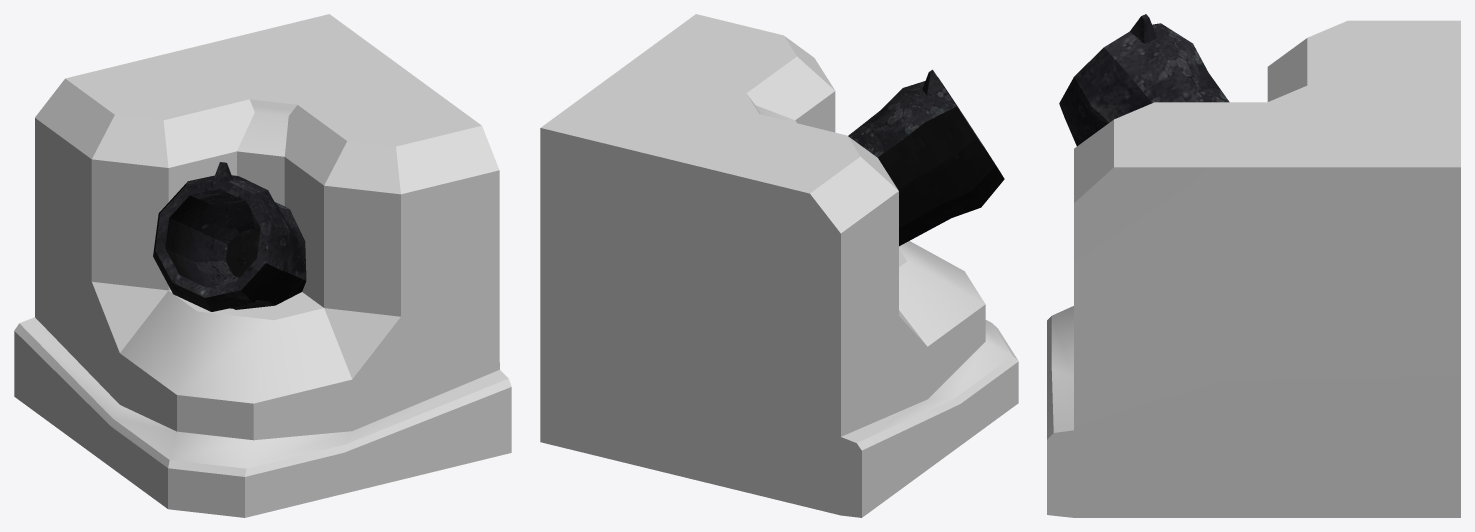
The model's file is Corner_cannon.fbx.
3 renders of one model, left to right at view 1: azimuth 30°, elevation 25°; view 2: azimuth 150°, elevation 25°; view 3: azimuth 270°, elevation 25°, orthographic. The views are drawn at different scales.
Visible parts, largest first — view 1: This thing, Cannon; view 2: This thing, Cannon; view 3: This thing, Cannon.
Boxes of the visible parts, x1,y1,x2,y2 form: This thing: (14,14,511,517); Cannon: (153,162,306,311); This thing: (540,14,1018,517); Cannon: (848,69,1004,246); This thing: (1047,20,1460,517); Cannon: (1059,14,1229,146).
Bounding box in the file's own units: 126 × 123 × 126.
